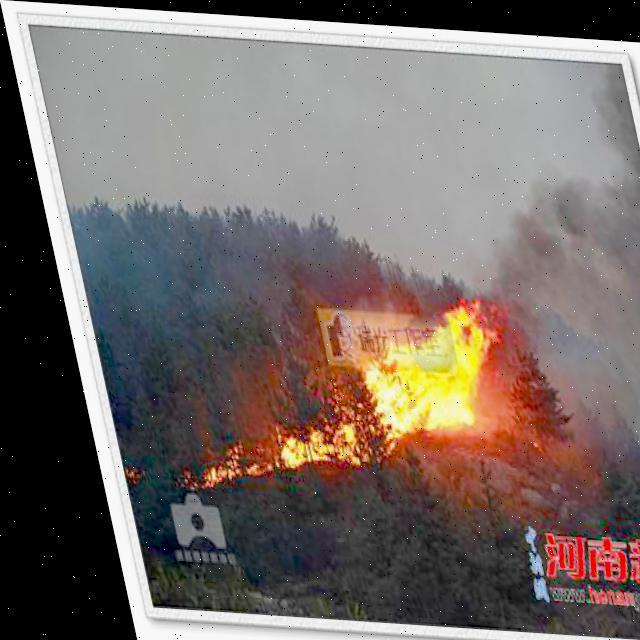Fire: (132, 271, 520, 514)
